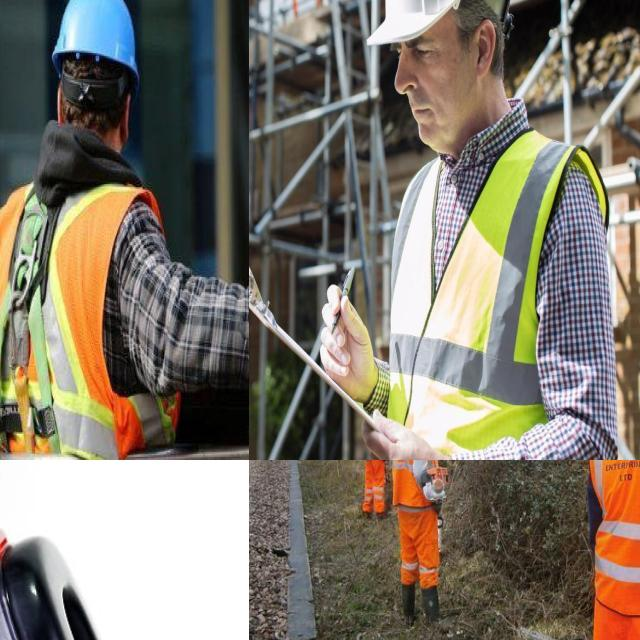Ear-protection: (0, 460, 249, 640)
No_Ear-Protection: (471, 15, 500, 85), (120, 86, 133, 140)
No_Glasses: (386, 31, 444, 73)
face_nomask: (388, 22, 476, 150)
hand_noglove: (308, 273, 384, 400), (351, 410, 465, 460)
head_helmet: (48, 0, 143, 86), (365, 0, 515, 48)
person: (305, 0, 603, 460), (0, 0, 192, 460), (390, 460, 449, 622), (355, 460, 390, 523)
shoes: (395, 578, 417, 619), (424, 584, 440, 622)
vest: (364, 133, 583, 455), (0, 175, 181, 460), (588, 460, 640, 614), (389, 460, 438, 508)
